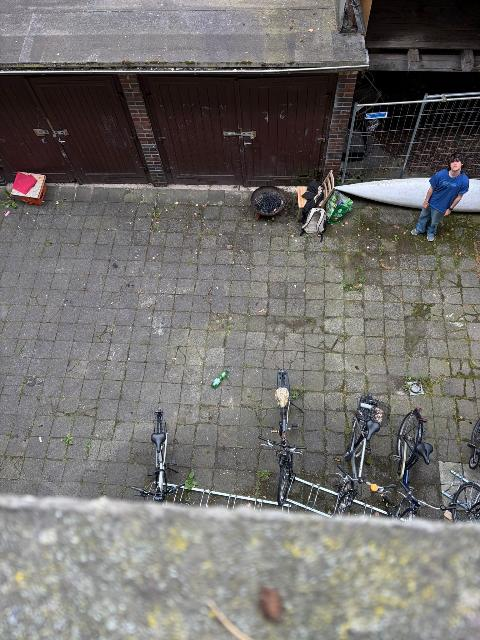plastic_bottle: (212, 370, 228, 388)
